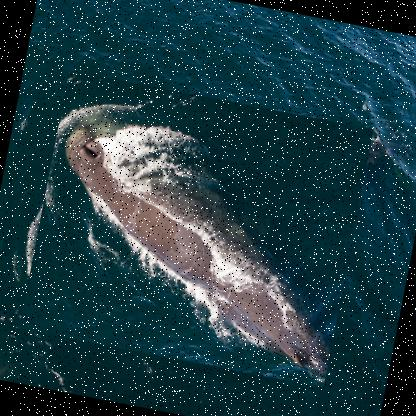sperm_whale: (18, 70, 374, 388)
